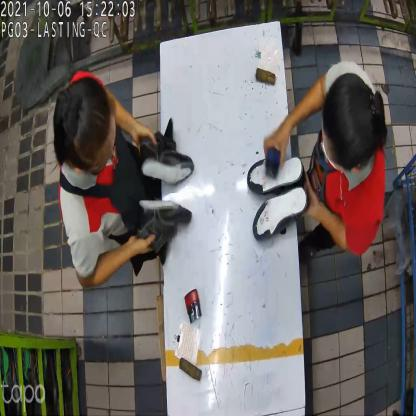shoes: (135, 120, 195, 252), (246, 154, 309, 245)
stamp: (185, 289, 203, 327), (262, 148, 282, 180)
